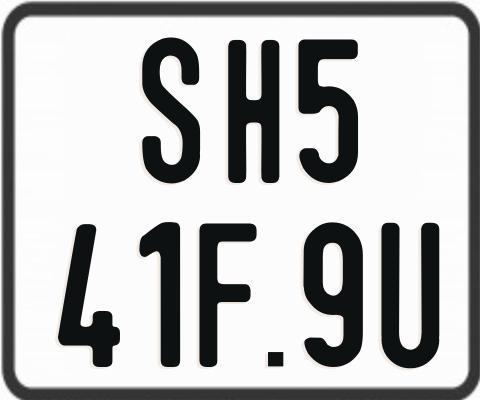1: (136, 219, 181, 368)
4: (57, 222, 125, 370)
5: (297, 40, 363, 183)
9: (301, 219, 362, 369)
F: (199, 223, 260, 370)
H: (225, 38, 277, 186)
S: (142, 35, 205, 180)
U: (378, 222, 436, 373)
